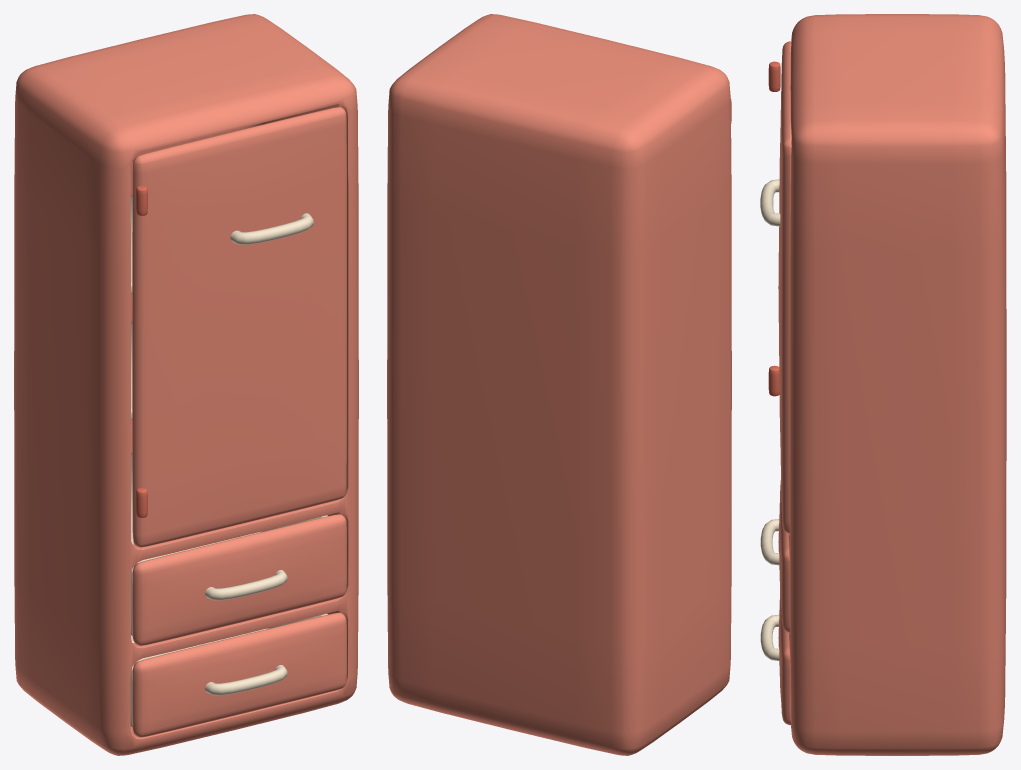
Rendered from pantry_b.glb.
The picture shows the model from 3 angles, left to right: view 1: azimuth 30°, elevation 25°; view 2: azimuth 150°, elevation 25°; view 3: azimuth 270°, elevation 25°; orthographic projection.
Visible parts, largest first — view 1: body, door, drawer_1, drawer_2; view 2: body; view 3: body, door, drawer_1, drawer_2.
Boxes of the visible parts, x1=… form: body: x1=14, y1=14, x2=358, y2=755; door: x1=132, y1=107, x2=346, y2=547; drawer_1: x1=131, y1=514, x2=346, y2=645; drawer_2: x1=130, y1=612, x2=346, y2=737; body: x1=387, y1=14, x2=731, y2=755; body: x1=788, y1=14, x2=1006, y2=755; door: x1=760, y1=41, x2=791, y2=533; drawer_1: x1=760, y1=480, x2=790, y2=632; drawer_2: x1=760, y1=594, x2=790, y2=725.
Bounding box in the file's own units: 0.8 × 1.86 × 0.653.
